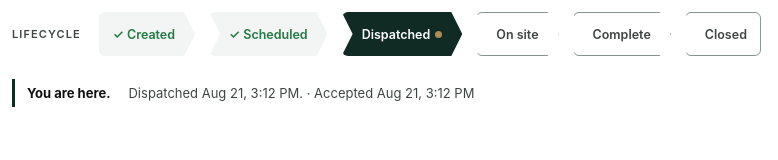
Test: LifecycleBand › clicking the open stage again RETURNS TO THE RECORD rather than closing to a blank strip
This screenshot has width=778, height=160.
Click the button "Complete": (622, 34) [572,12,671,56]
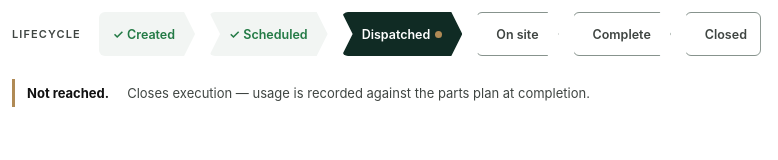
Click the button "Complete": (622, 34) [572,12,671,56]
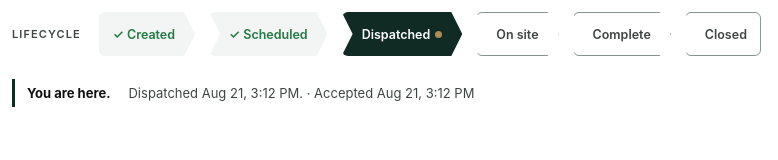
expect the text "You are here." is shown: met, box [27,85,110,101]
